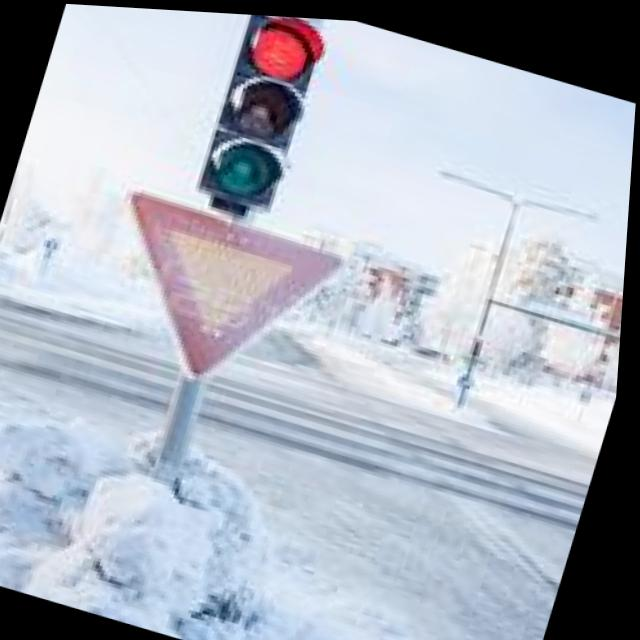red_light: (225, 11, 350, 100)
